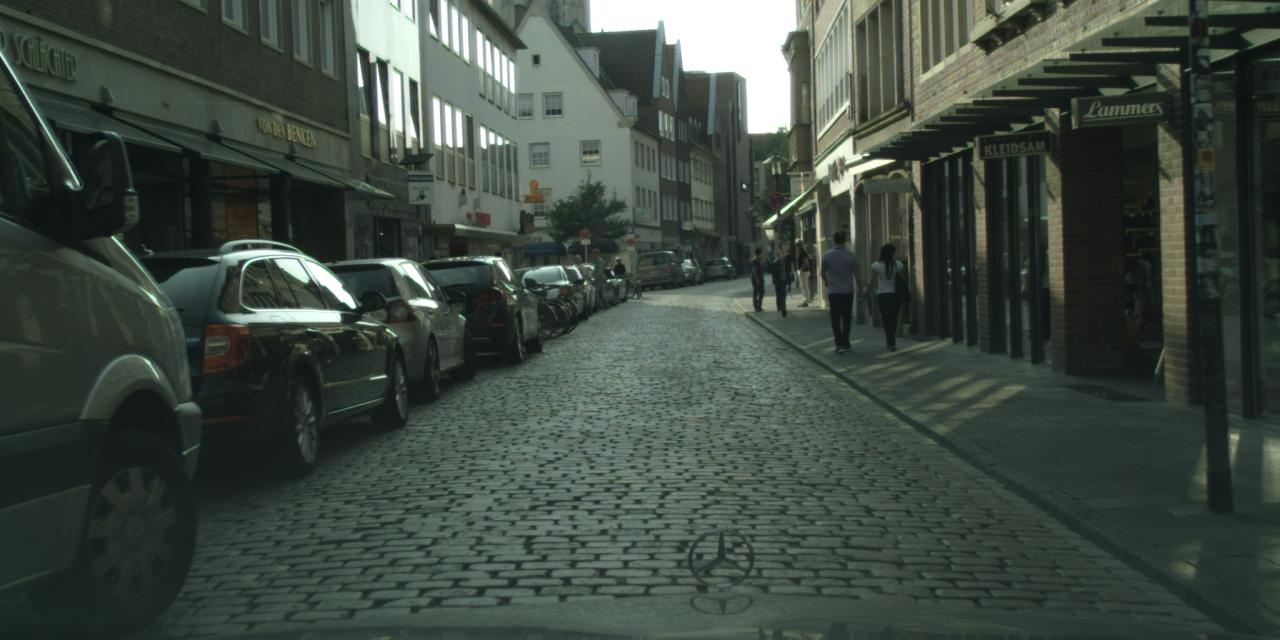ped: (817, 230, 866, 350), (868, 243, 911, 348), (787, 238, 814, 305), (745, 247, 771, 310), (585, 248, 610, 310), (423, 250, 448, 311), (768, 249, 793, 310), (487, 251, 509, 308), (570, 254, 592, 310), (774, 244, 795, 296), (610, 256, 627, 299), (745, 257, 751, 272), (764, 258, 770, 272)
